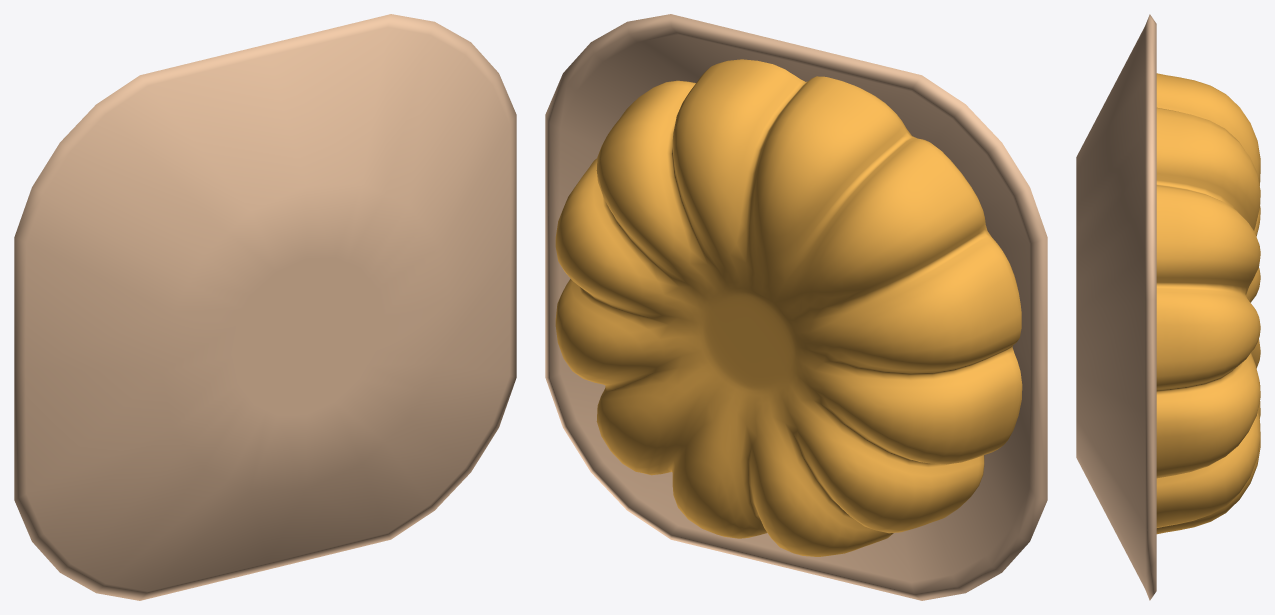
File: Custard.fbx
3 renders of one model, left to right at view 1: azimuth 30°, elevation 25°; view 2: azimuth 150°, elevation 25°; view 3: azimuth 270°, elevation 25°, orthographic. The views are drawn at different scales.
Parts seen in each view (by area): view 1: Circle.001; view 2: Circle.001; view 3: Circle.001.
Boxes of the visible parts, box(x1,y1,x2,y2) form: Circle.001: box(14, 14, 516, 600); Circle.001: box(545, 14, 1047, 600); Circle.001: box(1076, 14, 1260, 600).
Size of the model in its own units: 0.4321 by 0.4321 by 0.1532.
